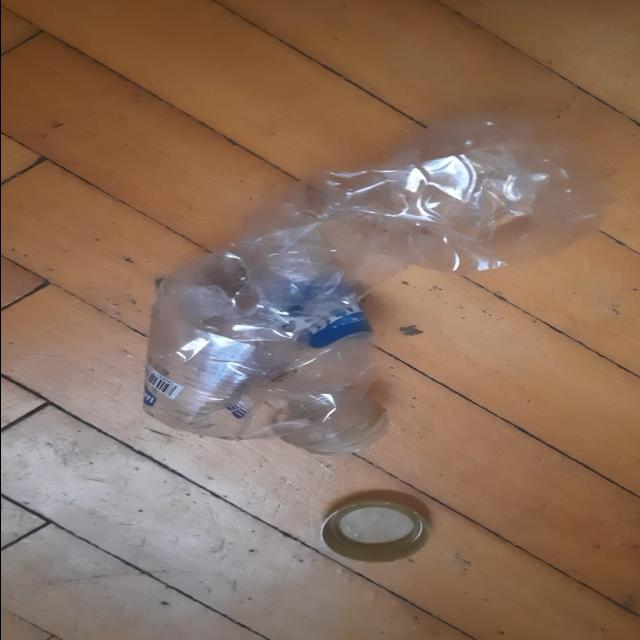Plastic: (142, 124, 610, 444)
